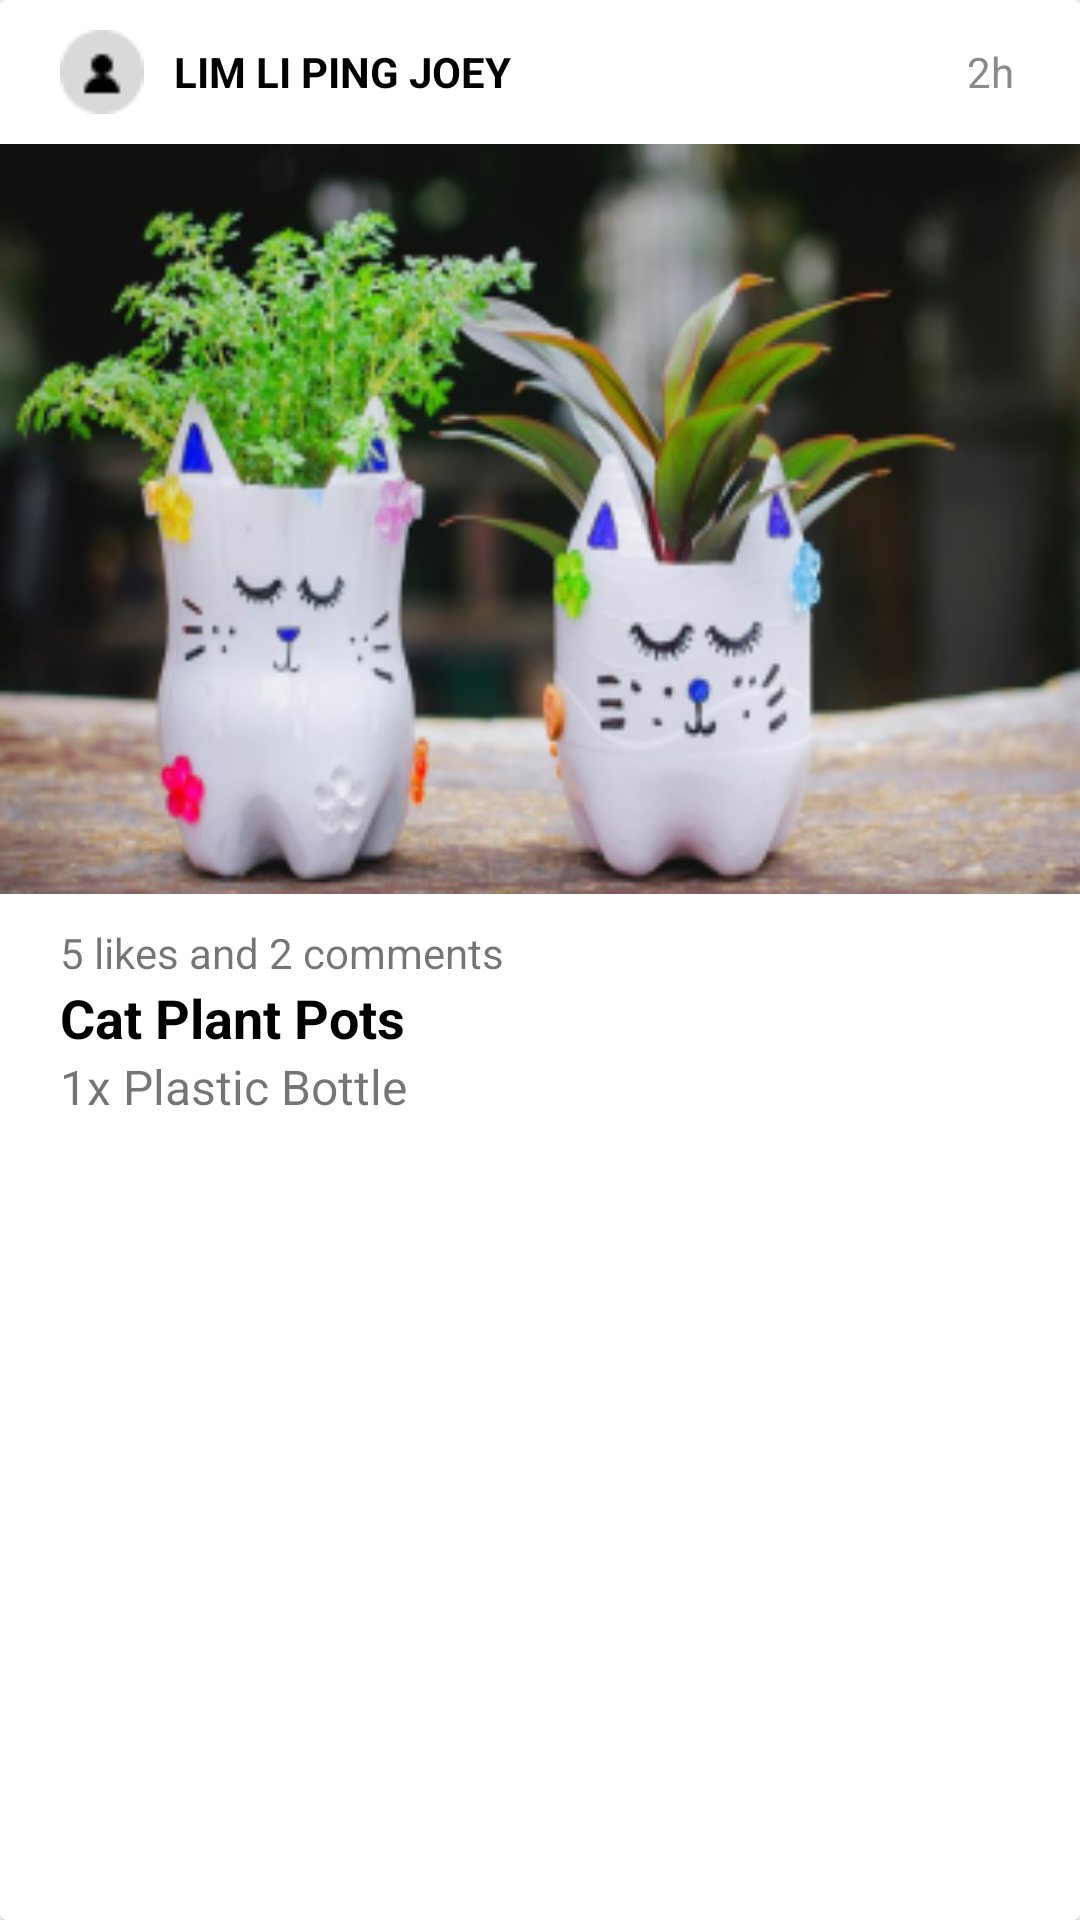

Named icons in this screenshot (1080px x 1920px) and their bounding boxes, rect(x1, y1, x2, y2):
profpic: rect(60, 30, 144, 114)
